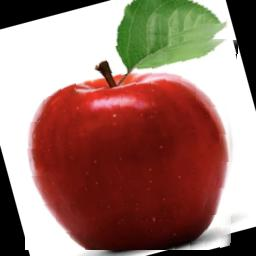Apple Fresh: (25, 26, 238, 250)
